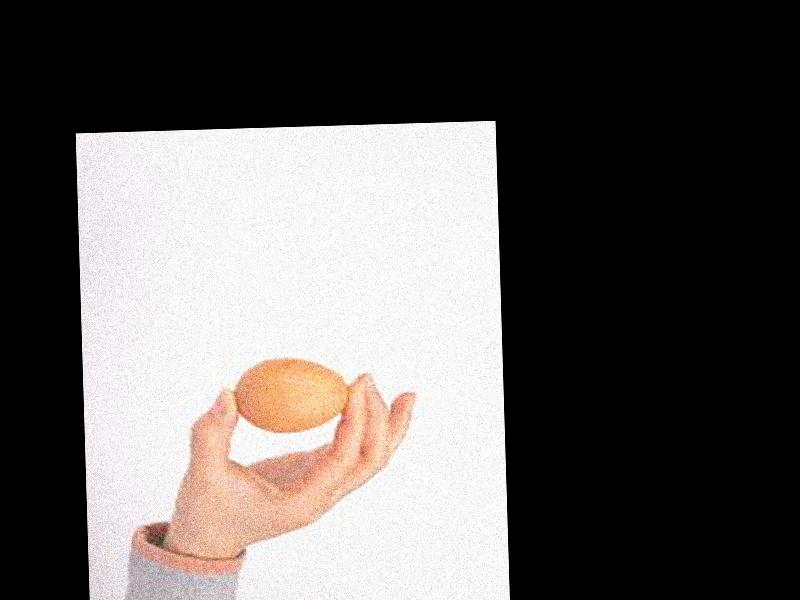Eggs: (236, 356, 352, 431)
